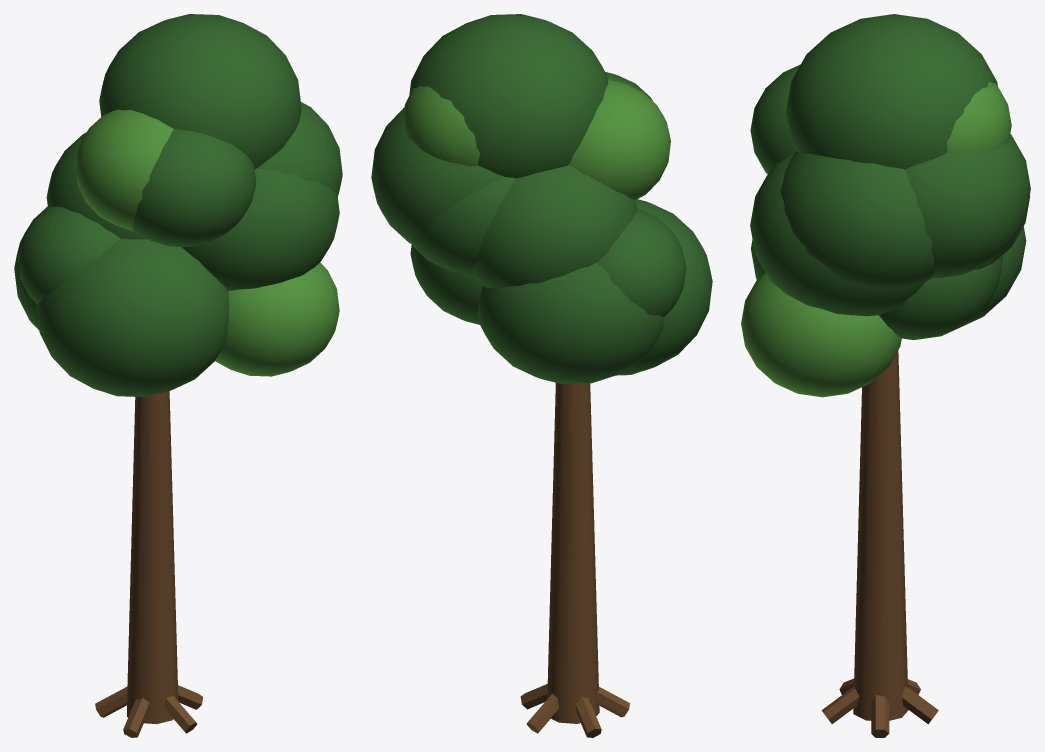
Rendered from arbre_foret_3.glb.
3 views of the same model, side by side, from view 1: azimuth 30°, elevation 25°; view 2: azimuth 150°, elevation 25°; view 3: azimuth 270°, elevation 25° (orthographic). The views are drawn at different scales.
Visible parts, largest first — view 1: feuillage_feuille_sombre.012, feuillage_feuille.012, tronc.012, racines_ecorce.002; view 2: feuillage_feuille_sombre.012, tronc.012, feuillage_feuille.012, racines_ecorce.002; view 3: feuillage_feuille_sombre.012, tronc.012, feuillage_feuille.012, racines_ecorce.002.
Boxes of the visible parts, bbox=[...] form: feuillage_feuille_sombre.012: bbox=[14, 14, 342, 397]; feuillage_feuille.012: bbox=[75, 109, 339, 376]; tronc.012: bbox=[127, 391, 178, 724]; racines_ecorce.002: bbox=[95, 685, 203, 737]; feuillage_feuille_sombre.012: bbox=[371, 14, 712, 384]; tronc.012: bbox=[547, 383, 599, 723]; feuillage_feuille.012: bbox=[402, 79, 670, 200]; racines_ecorce.002: bbox=[520, 684, 629, 737]; feuillage_feuille_sombre.012: bbox=[750, 14, 1030, 340]; tronc.012: bbox=[853, 350, 908, 720]; feuillage_feuille.012: bbox=[741, 82, 1011, 397]; racines_ecorce.002: bbox=[821, 678, 938, 737].
Bounding box in the file's own units: 2.38 × 5.31 × 1.94.
